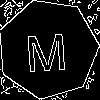M: (23, 24, 69, 73)
